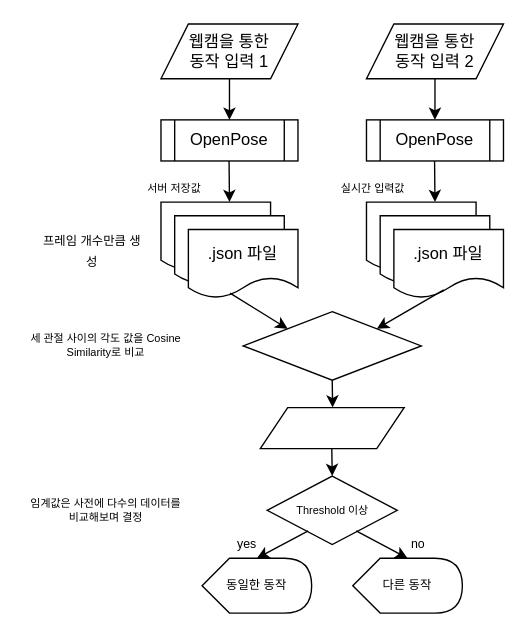
Image size: 527x637. Some labels were removed from this diagram. The centre of each missing label's shape, as x and y in pixels:
"두 데이터셋의 비교" goes at pixel 331 345.
"유사도 값 (%)" goes at pixel 331 427.
